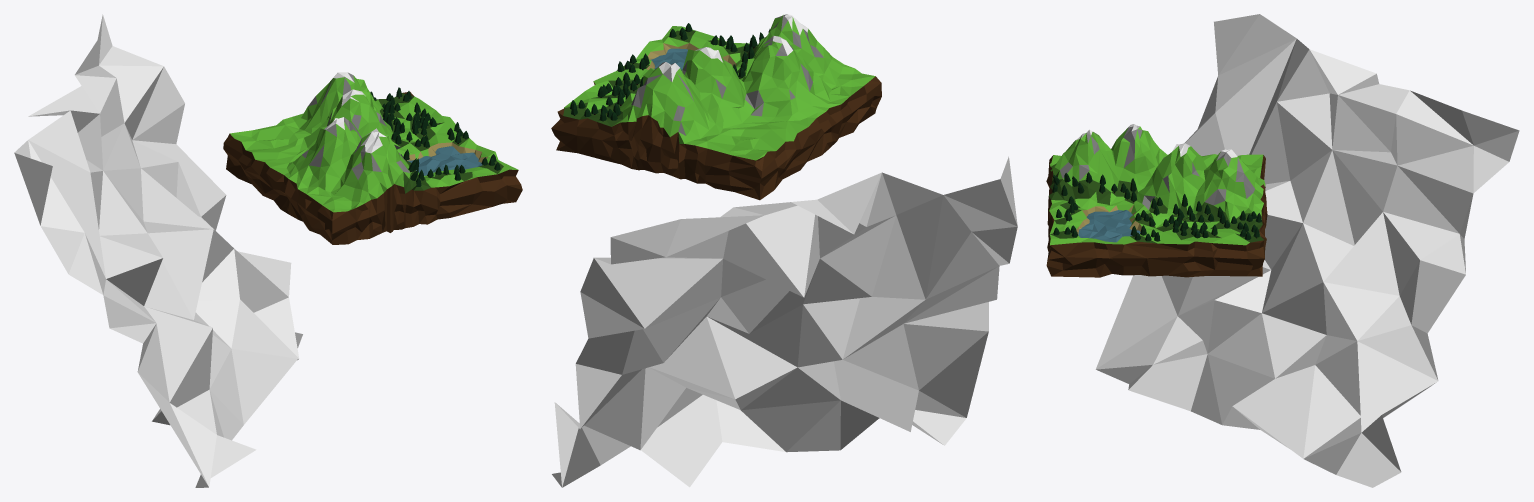
Rendered from land.fbx.
The picture shows the model from 3 angles, left to right: view 1: azimuth 30°, elevation 25°; view 2: azimuth 150°, elevation 25°; view 3: azimuth 270°, elevation 25°; orthographic projection. The views are drawn at different scales.
Parts seen in each view (by area): view 1: Plane.003, Plane, Plane.001; view 2: Plane.003, Plane; view 3: Plane.003, Plane, Plane.001.
Part boxes in pixels (bbox=[...]): Plane.003: bbox=[14, 14, 302, 487]; Plane: bbox=[223, 72, 522, 244]; Plane.001: bbox=[407, 146, 482, 175]; Plane.003: bbox=[552, 156, 1017, 487]; Plane: bbox=[551, 14, 881, 200]; Plane.003: bbox=[1095, 14, 1519, 487]; Plane: bbox=[1046, 124, 1267, 277]; Plane.001: bbox=[1078, 210, 1140, 242].
Size of the model in its own units: 22389 by 18126 by 22950.
